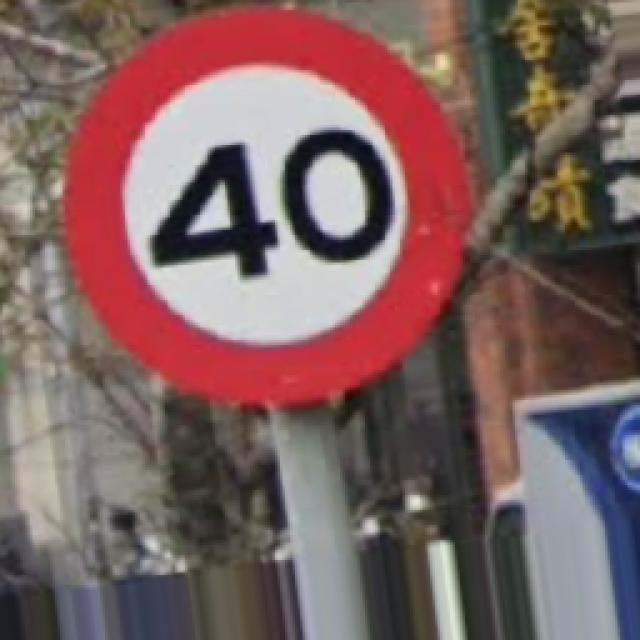Speed Limit -40-: (65, 8, 470, 402)
